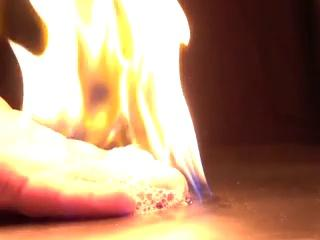Fire: (24, 1, 208, 200)
